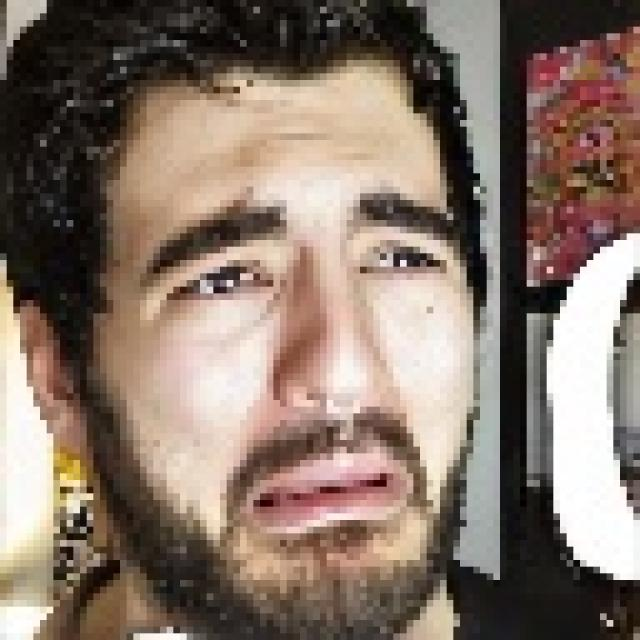sad: (62, 76, 510, 640)
